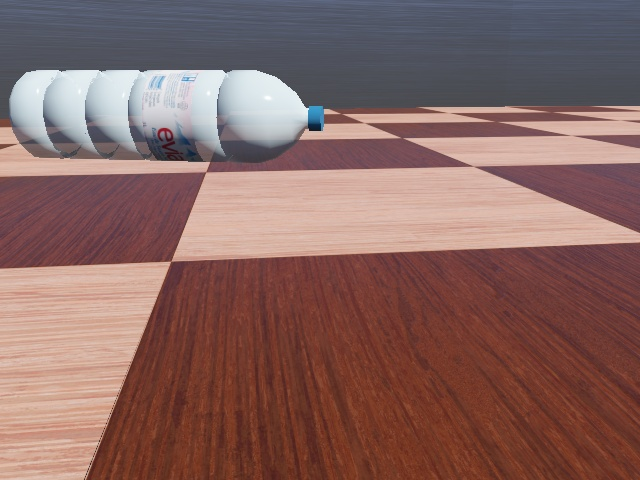chai_nhua: (7, 63, 328, 164)
